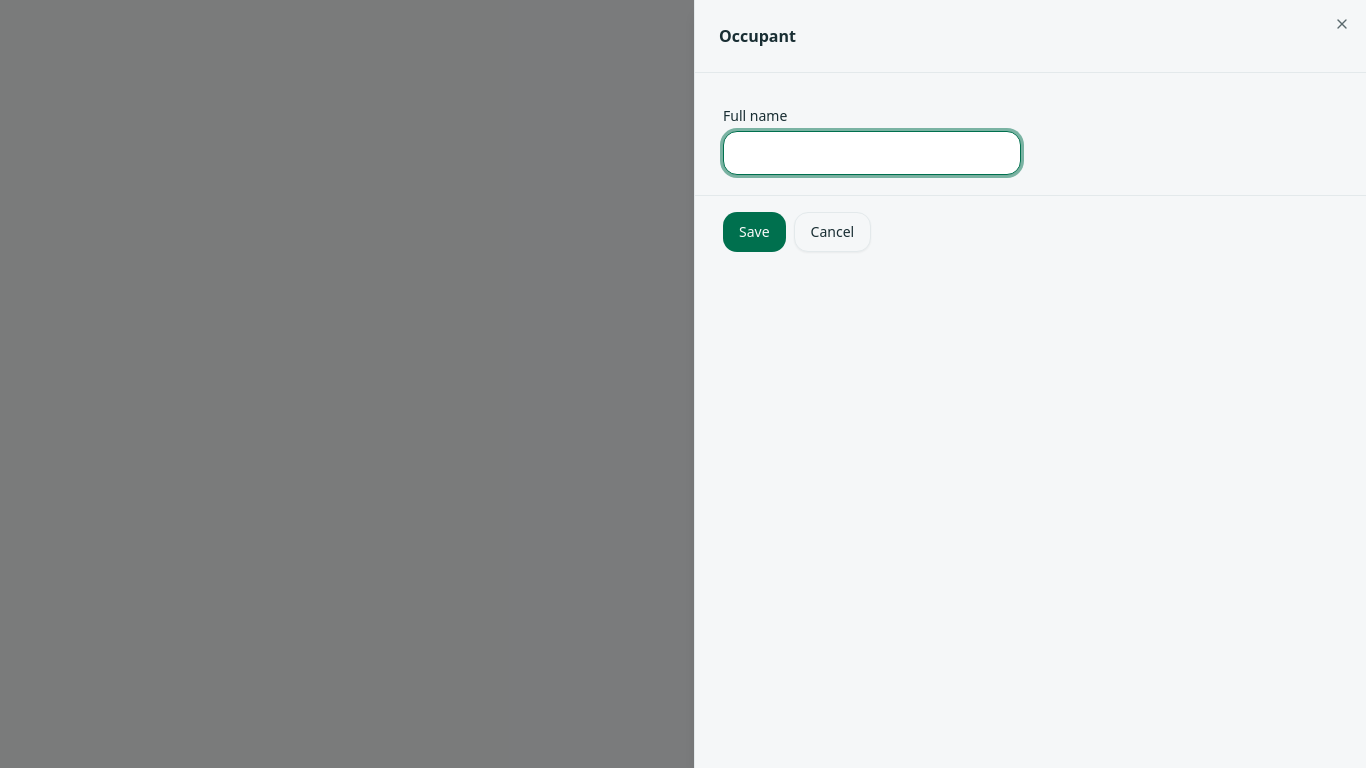
recoverable record validation › preserves typed values and maps nested server errors beside the matching input
The width and height of the screenshot is (1366, 768).
In the field labelled "Full name": coordinates (872, 153) [723,131,1020,175], type "Unchanged draft"
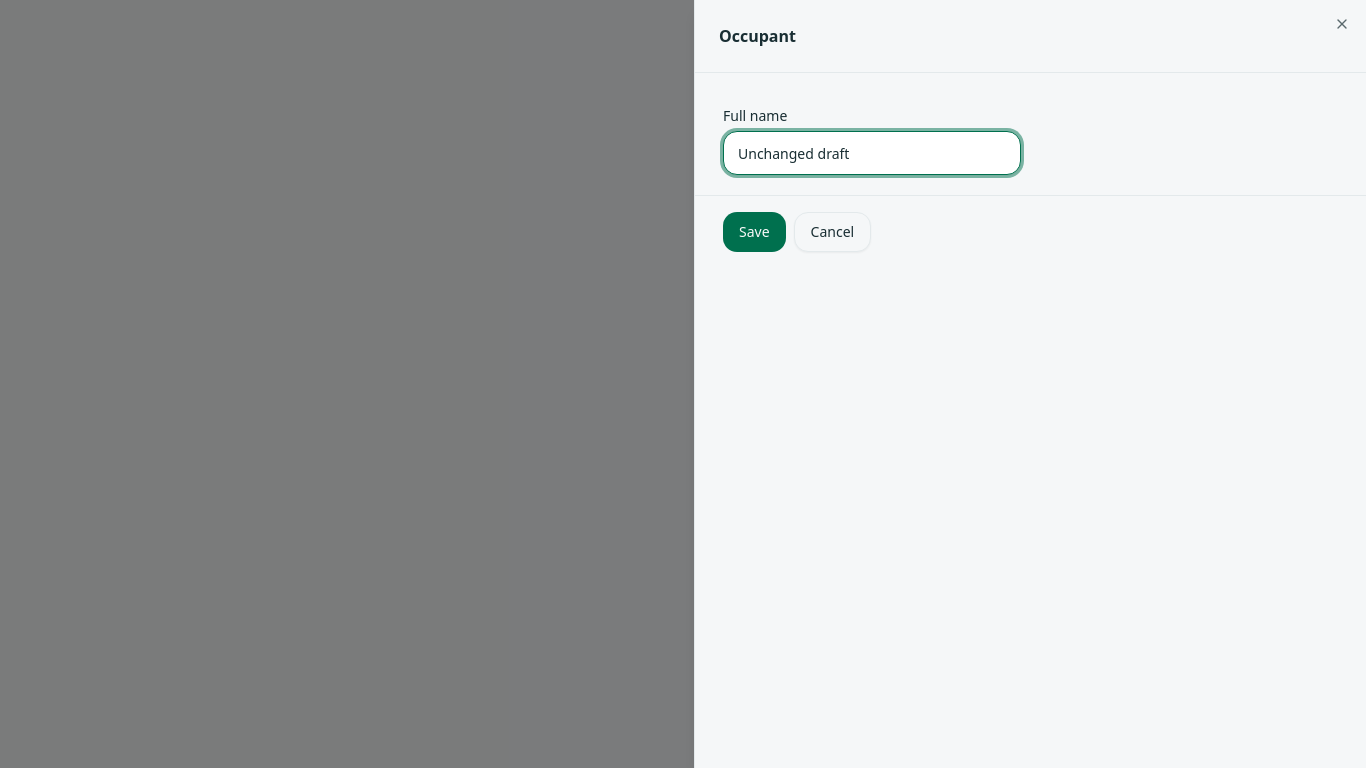
Click the button "Save": coordinates (754, 232) [723,212,786,252]
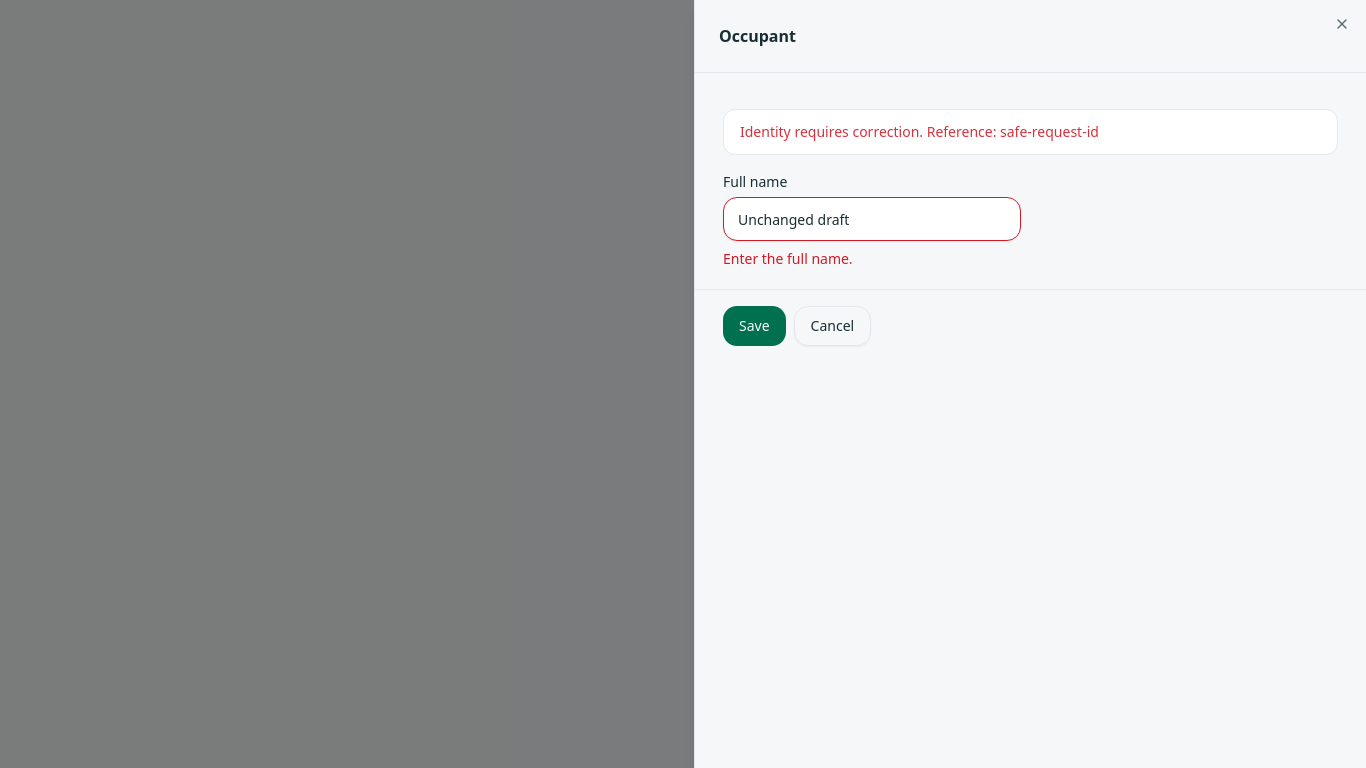
Expected: the text "Enter the full name." is shown, [723,249,853,268]
Expected: the text "Identity requires correction. Reference: safe-request-id" is shown, [740,122,1099,141]
